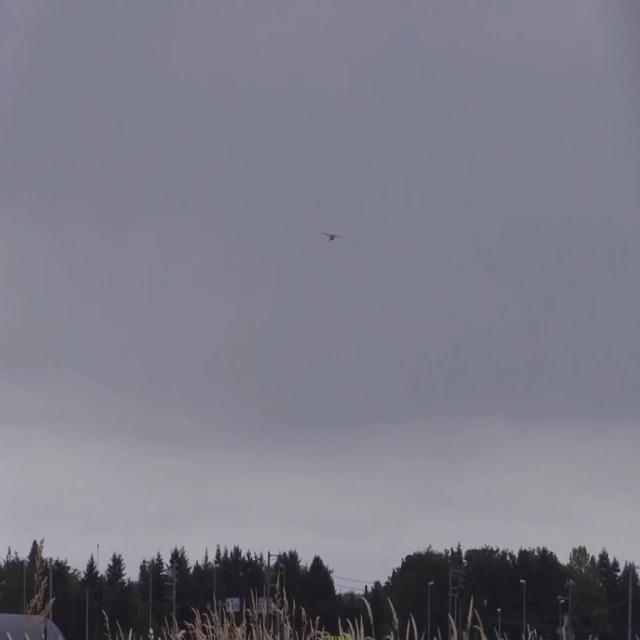AirPlane: (306, 217, 359, 257)
